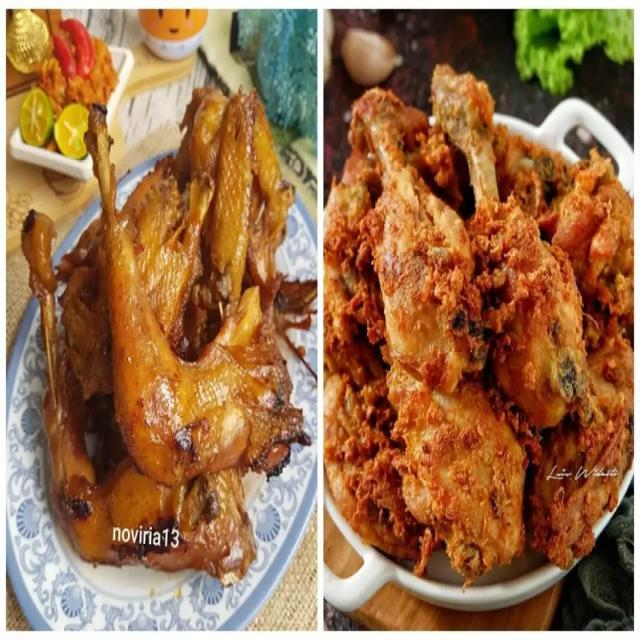ayam_goreng: (44, 83, 606, 582)
